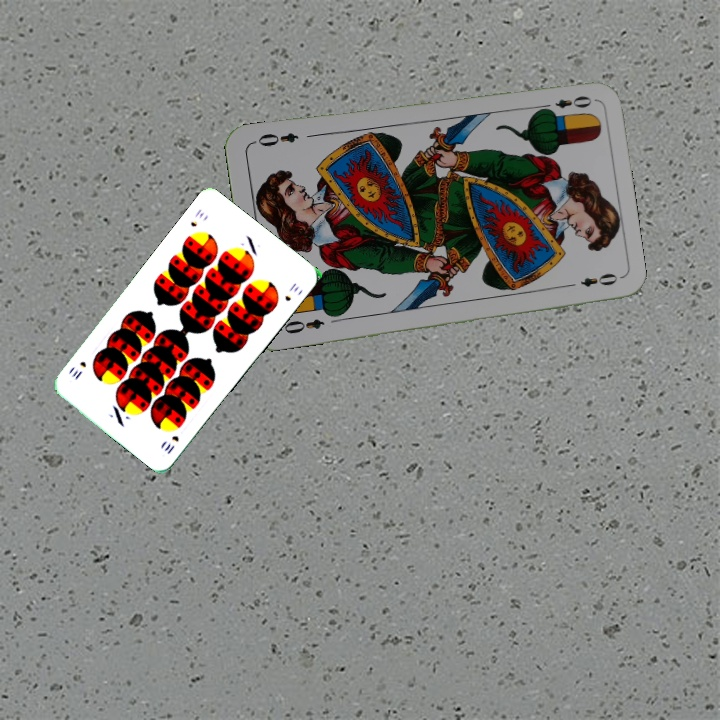EO: (536, 92, 595, 115), (275, 315, 327, 337)
S10: (160, 431, 181, 457), (186, 205, 207, 230)
